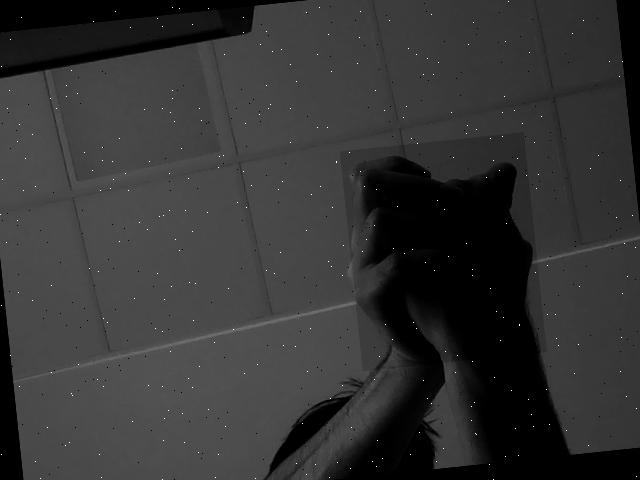friend: (343, 145, 537, 363)
